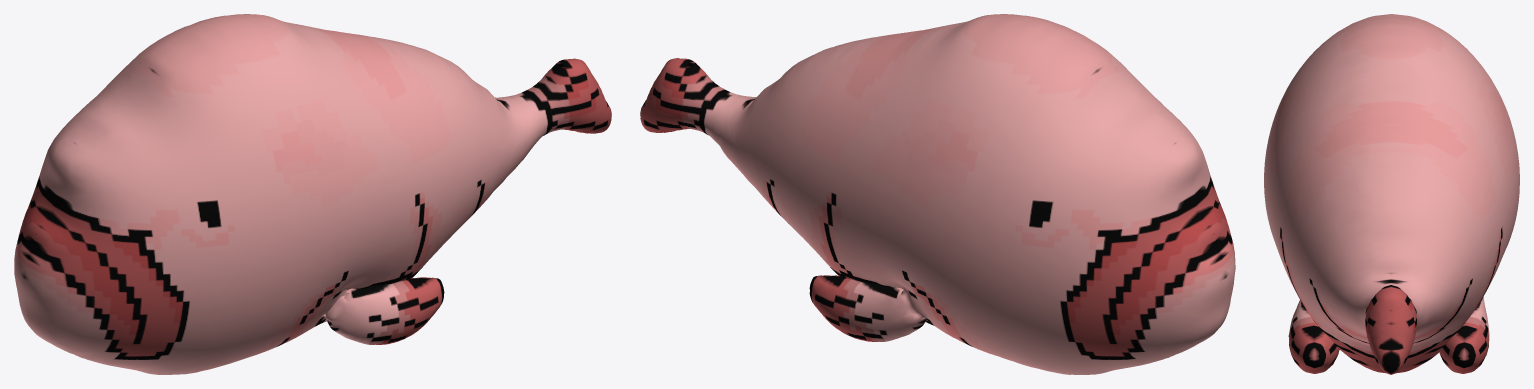
Rendered from realest blobbers.fbx.
3 views of the same model, side by side, from view 1: azimuth 30°, elevation 25°; view 2: azimuth 150°, elevation 25°; view 3: azimuth 270°, elevation 25° (orthographic). The views are drawn at different scales.
Visible parts, largest first — view 1: Mesh_0.005; view 2: Mesh_0.005; view 3: Mesh_0.005.
Part boxes in pixels (bbox=[...]): Mesh_0.005: bbox=[14, 14, 611, 374]; Mesh_0.005: bbox=[640, 14, 1235, 374]; Mesh_0.005: bbox=[1264, 14, 1519, 374].
Size of the model in its own units: 762 by 406 by 313.
1 material, 1 textured.
